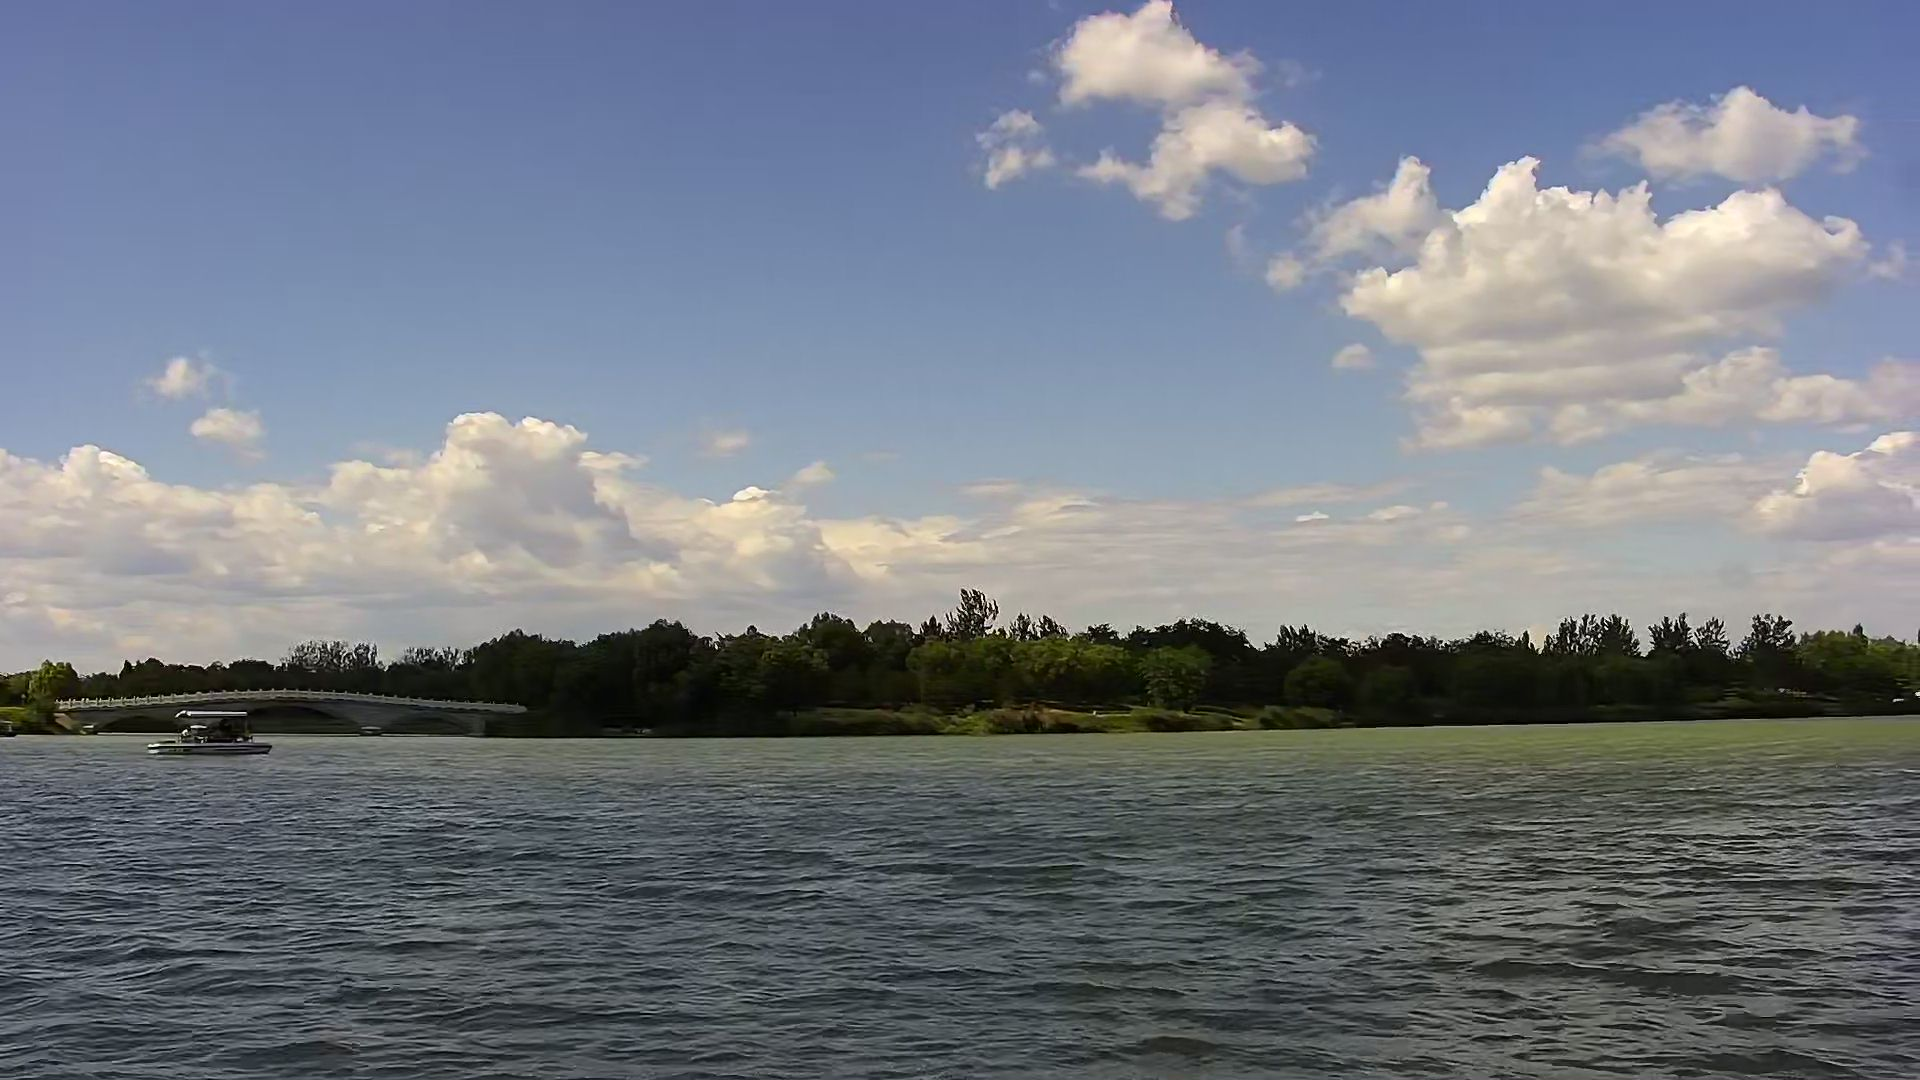boat: (144, 712, 282, 761)
bridge: (51, 682, 555, 748)
